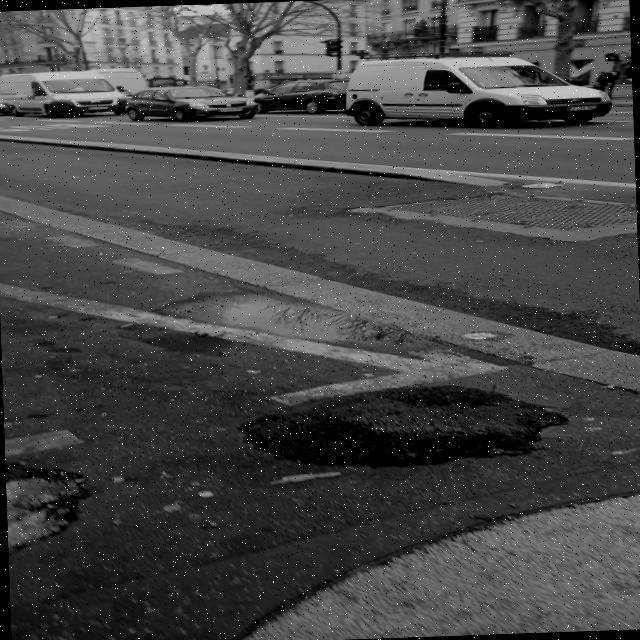Autre: (560, 100, 608, 113), (206, 103, 252, 112)
